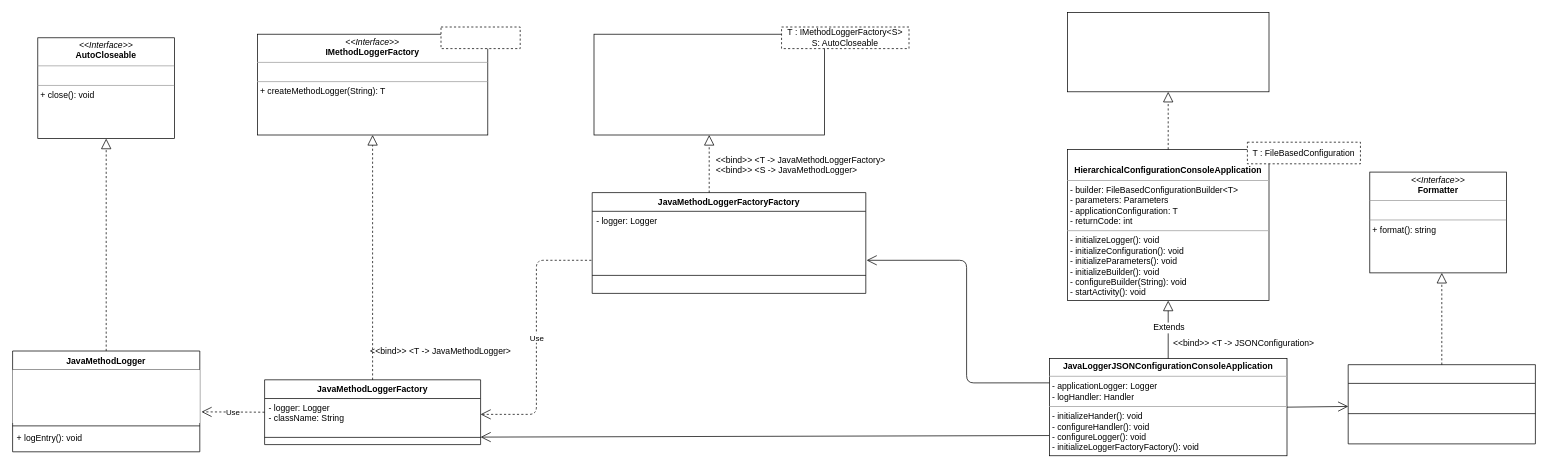
Image size: 1548x469. Some labels were removed from this diagram. Each missing label, with the centre of its shape:
- javaMethodLogger: Logger - className: String - methodName: String: [105,396]
<<Interface>> IConsoleApplication + run(String[]): int: [1168,52]
<<Interface>> IMethodLoggerFactoryFactory + createMethodLoggerFactory(String): T: [708,84]
BaseFormatter: [1441,404]
T : AutoCloseable: [480,37]
